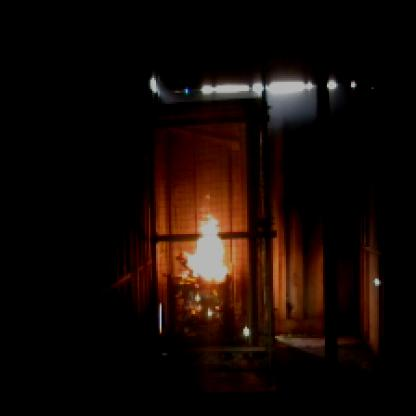Fire: (160, 189, 249, 342)
